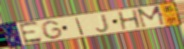E: (18, 20, 44, 45)
G: (40, 20, 64, 40)
H: (116, 9, 143, 32)
I: (74, 17, 86, 36)
J: (95, 13, 111, 33)
M: (135, 4, 168, 30)
